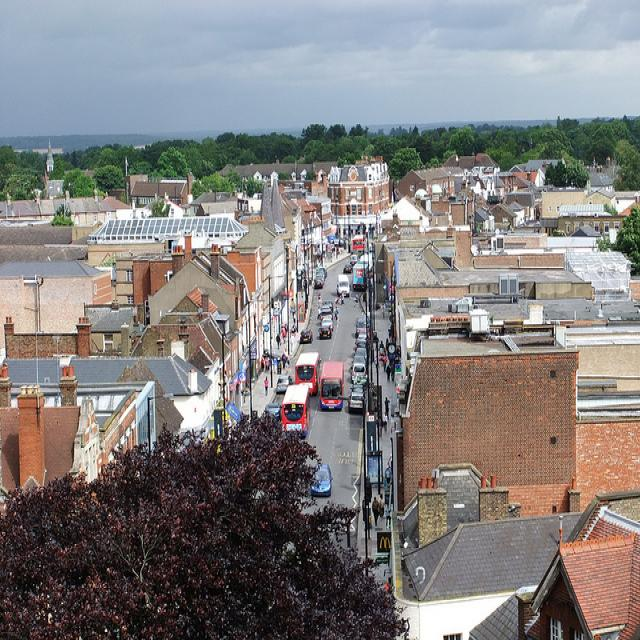Vehicle: (253, 181, 429, 419), (281, 385, 312, 437), (295, 352, 322, 397), (320, 360, 344, 410), (311, 464, 332, 496), (352, 260, 369, 292), (348, 392, 364, 415), (298, 326, 314, 345), (320, 317, 334, 338), (337, 275, 350, 297), (353, 233, 366, 254), (352, 362, 367, 380), (354, 341, 368, 357), (355, 321, 367, 338), (352, 355, 366, 368), (320, 309, 332, 319), (324, 300, 333, 313), (314, 278, 323, 289), (351, 384, 363, 392), (343, 264, 352, 274)
